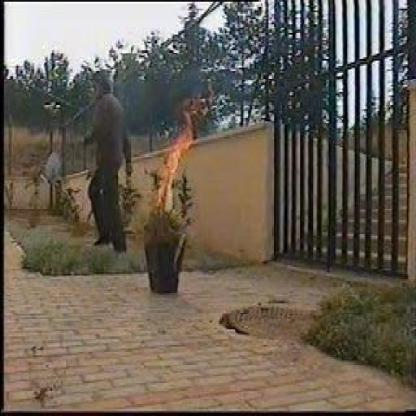foggia-v2-map80-epoch100 - v1 4323: (156, 133, 194, 207)
